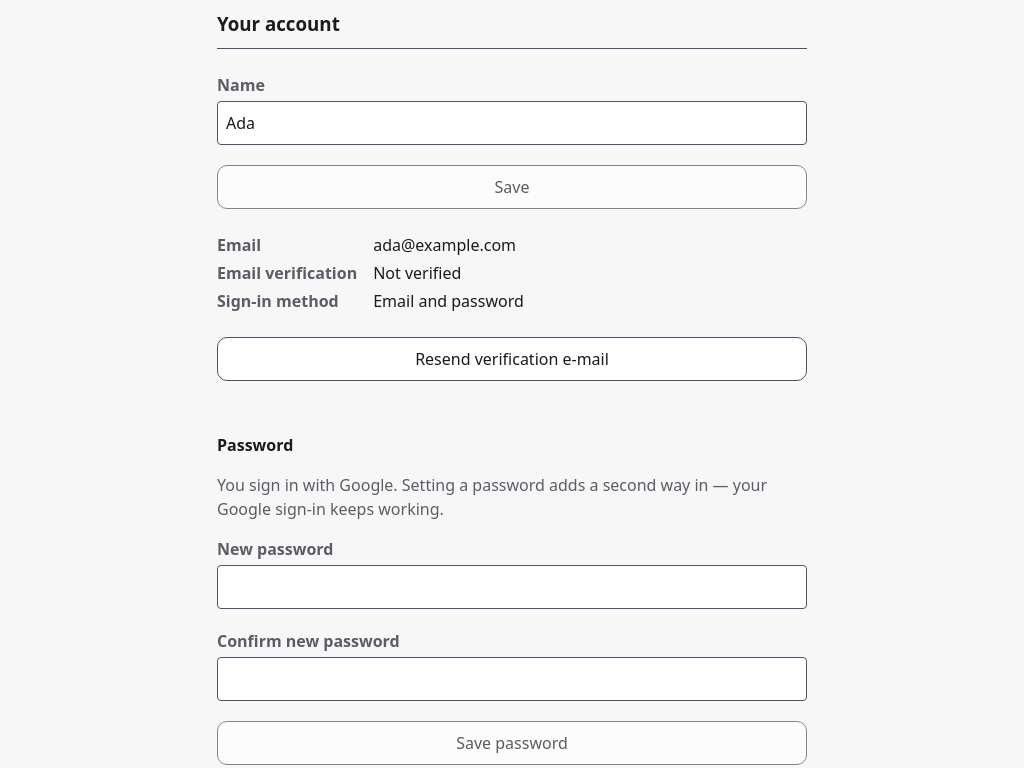
AccountPage › states an unverified email as text and offers the resend action (FR-008)
Expected: the text "Email verification" is shown, [217,261,357,285]
Expected: the text "Not verified" is shown, [373,262,461,284]
Click the button "Resend verification e-mail" at (512, 359), box [217,337,807,381]
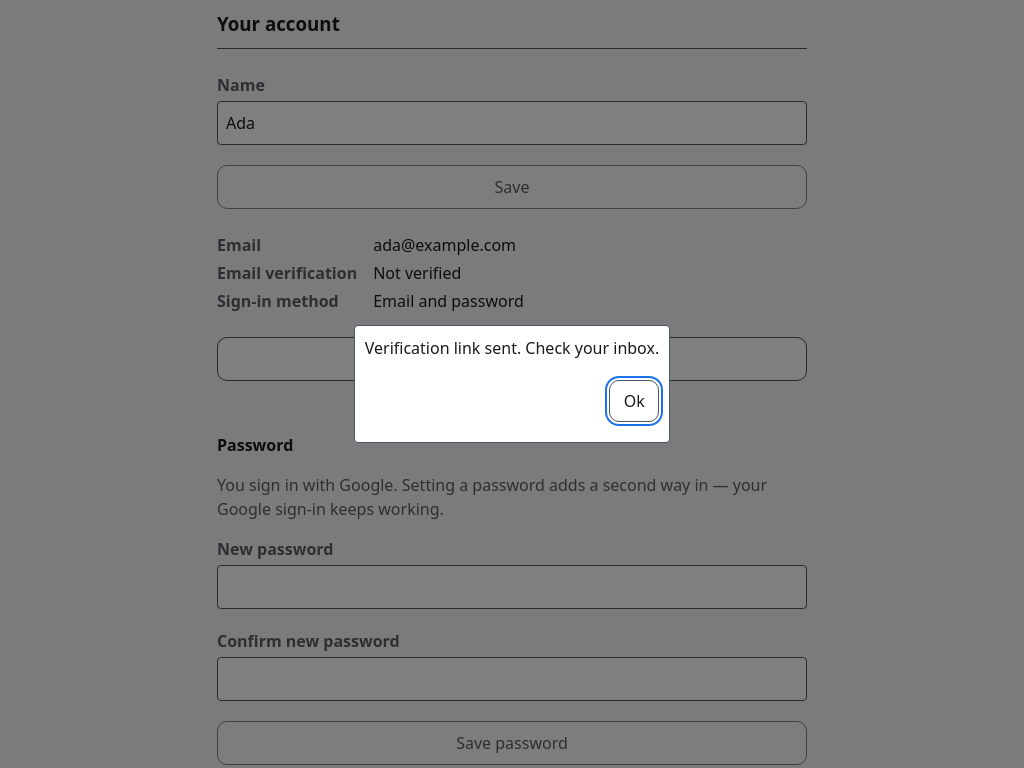
Expected: the text "Verification link sent. Check your inbox." is shown, [365,336,659,360]
